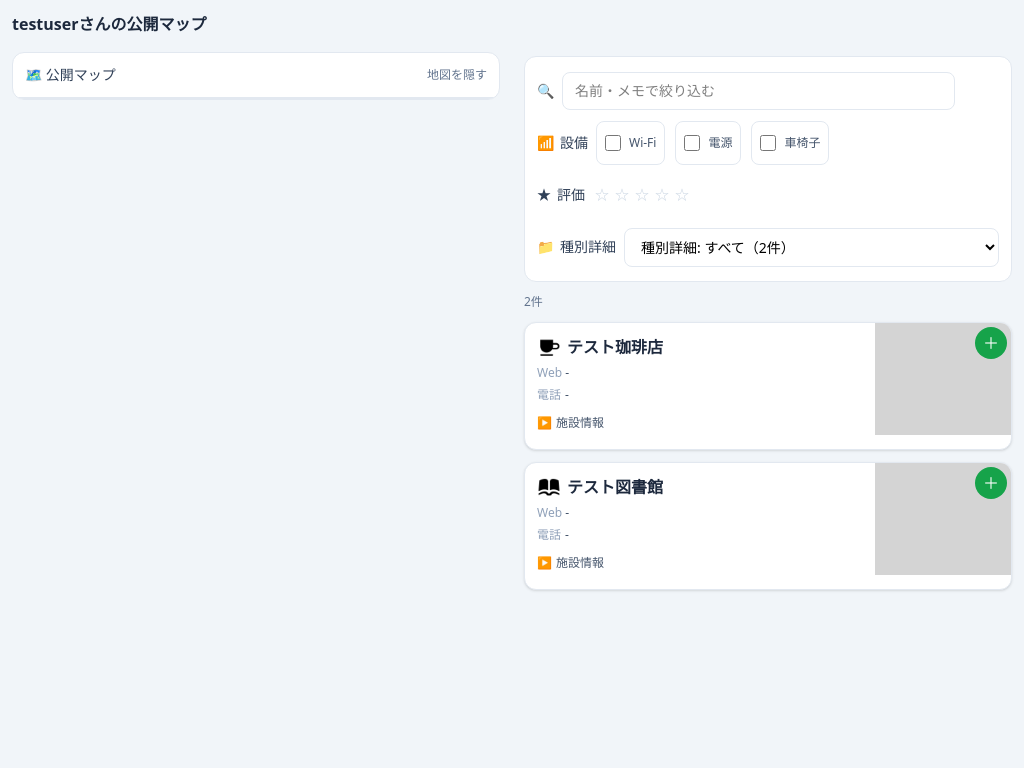
Scenario: ピースG2: フィルタ・メモ帳追加 › キーワード絞り込みでカード一覧と地図ピンの両方が絞られる
Expected: the heading "テスト珈琲店" is shown, [567,335,663,359]
Expected: the heading "テスト図書館" is shown, [567,475,663,499]
Note: キーワード「珈琲」で絞り込む
In the field labelled "名前・メモで絞り込む": [758, 91] box [562,72,955,110], type "珈琲"
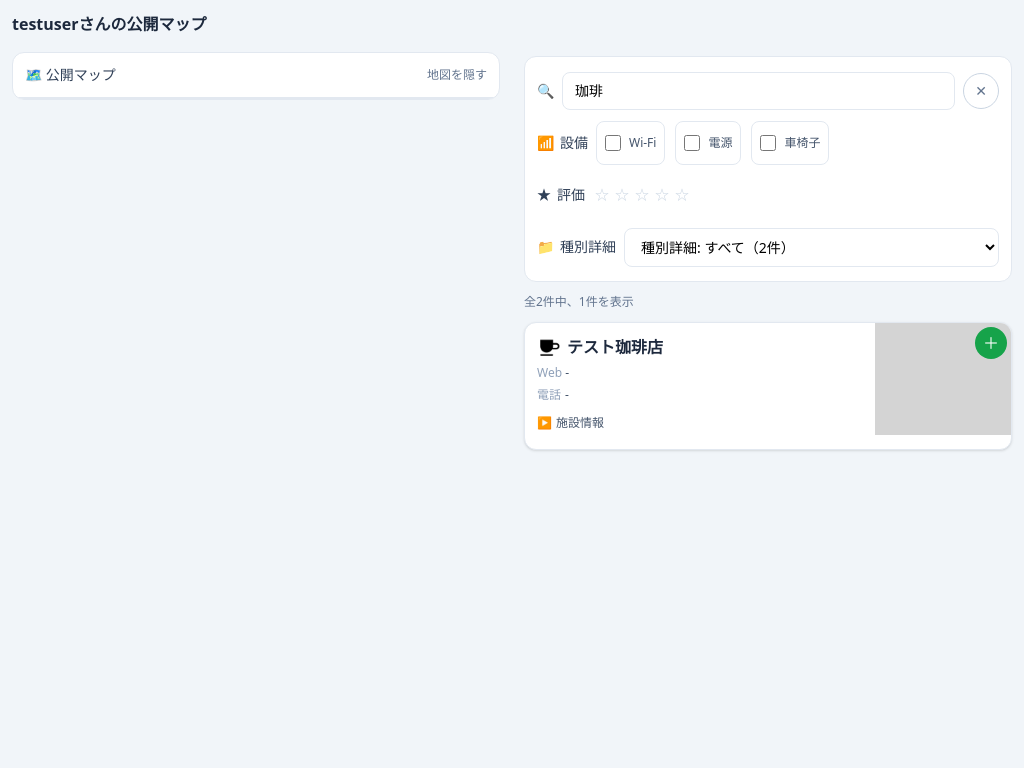
Expected: the heading "テスト珈琲店" is shown, [567,335,663,359]
Expected: the heading "テスト図書館" is gone
Expected: the text "全2件中、1件を表示" is shown, [524,293,634,310]
